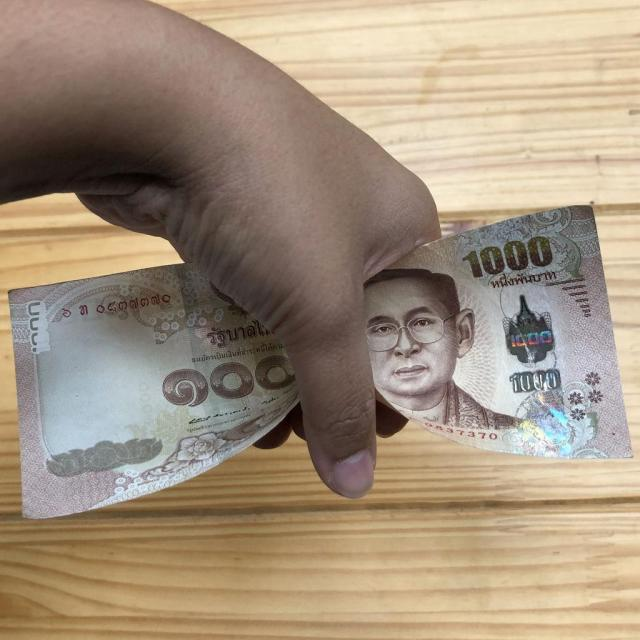THAI1000: (9, 264, 298, 518), (365, 206, 632, 458)
